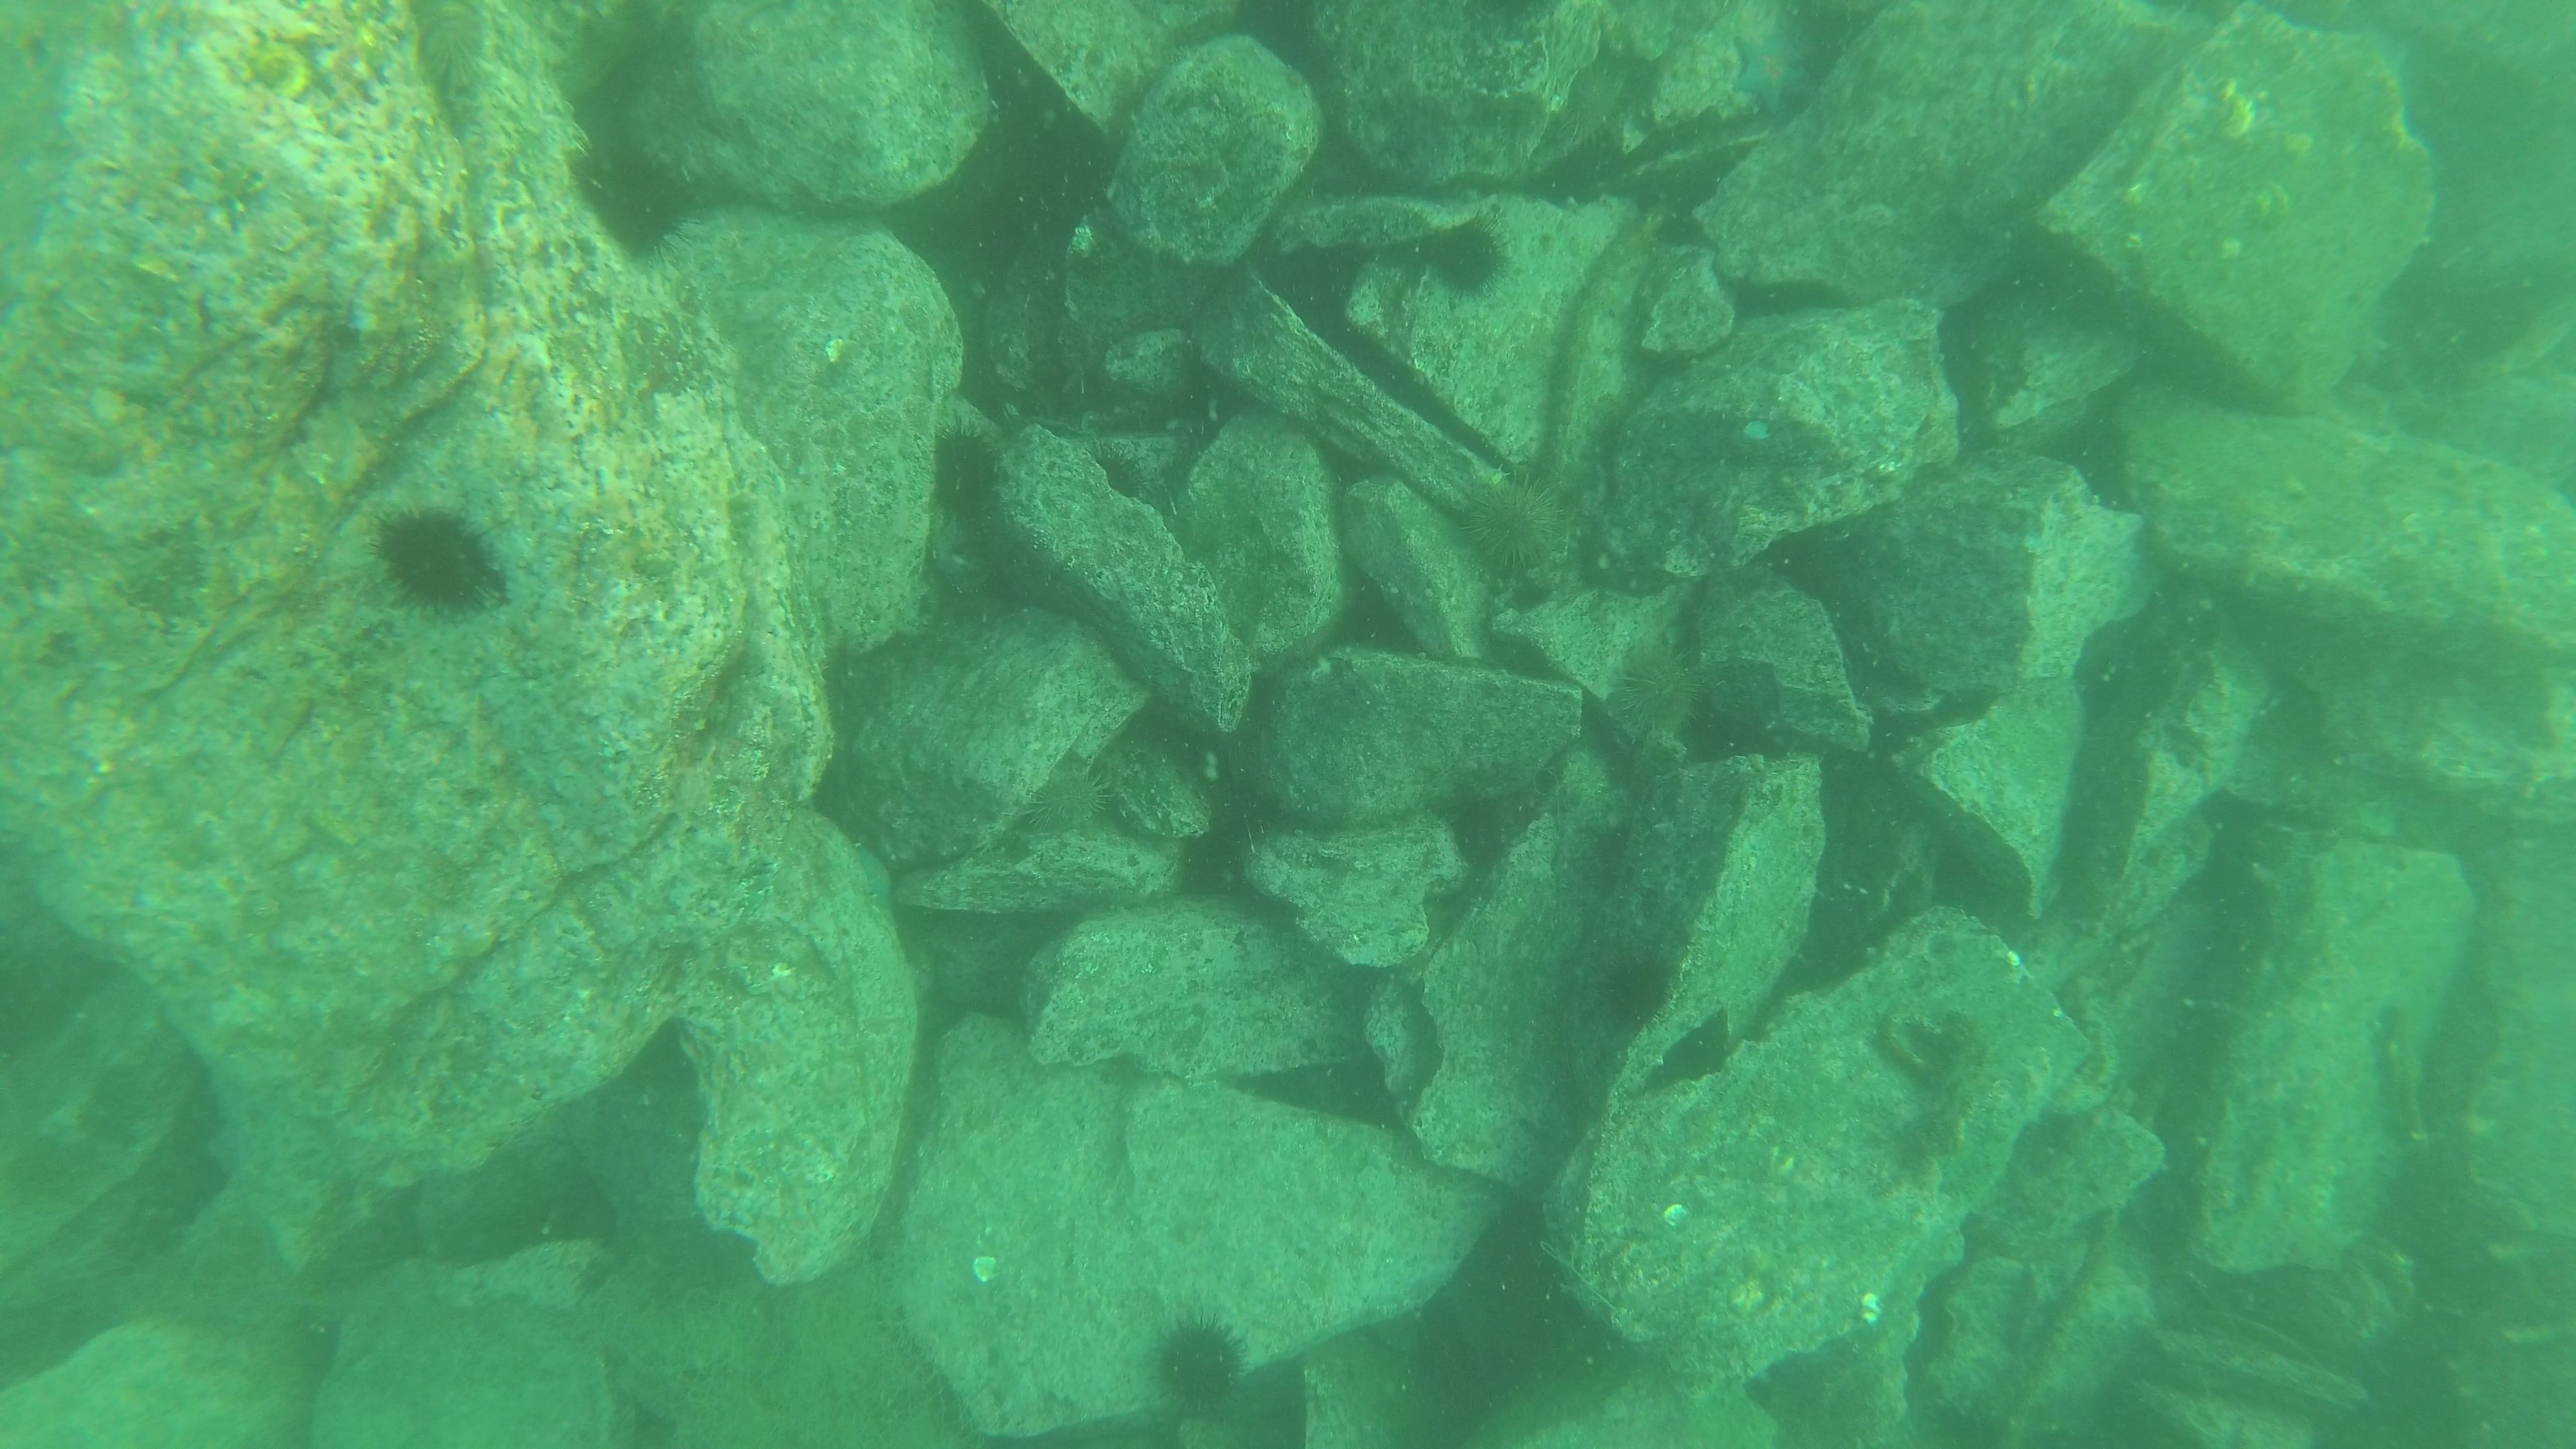echinus: (373, 513, 499, 621), (1157, 1329, 1246, 1412), (1422, 219, 1506, 294)
